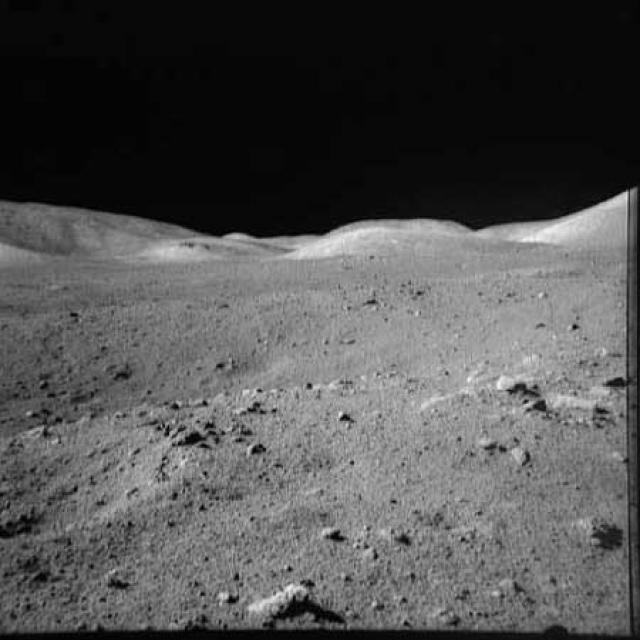crater: (0, 306, 453, 412), (2, 426, 201, 538)
rock: (230, 572, 332, 628), (529, 392, 612, 438), (572, 506, 626, 557), (496, 361, 544, 399)
